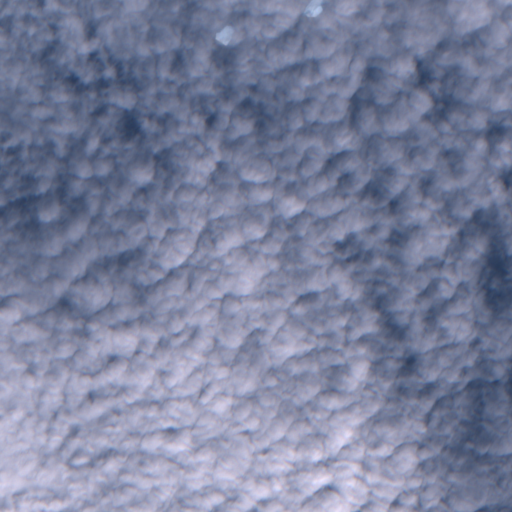Iceberg: (216, 26, 233, 46), (304, 0, 322, 16)
